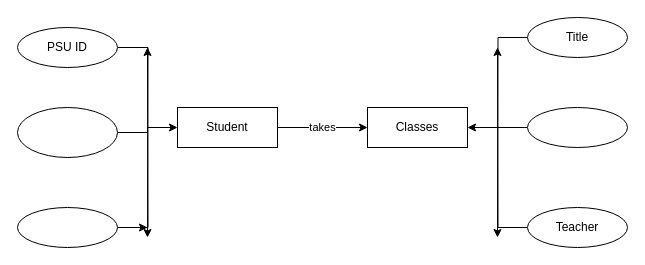
The diagram is 645 pixels wide and 265 high, and some of its shapes have lost their labels. Here are the shapes that lost their labels. From the top down, the box of each, then its label:
(16, 106, 118, 158): First Name
(526, 106, 628, 148): Credit
(16, 206, 118, 248): Last Name
